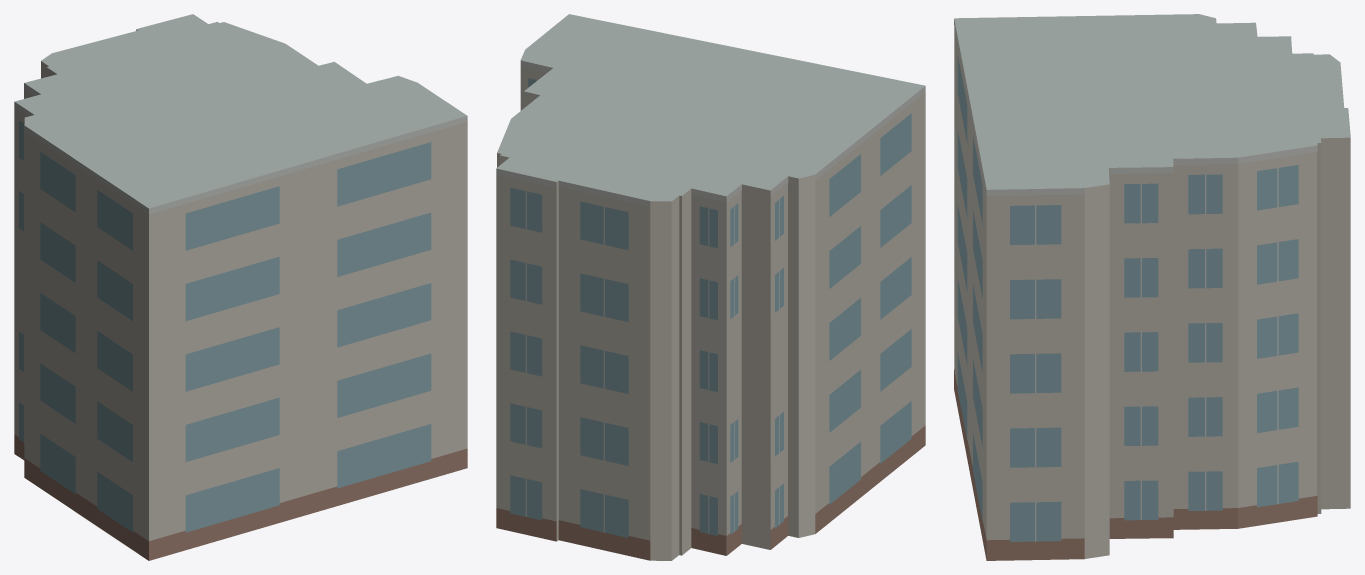
File: survey-upis-32742366.glb
3 views of the same model, side by side, from view 1: azimuth 30°, elevation 25°; view 2: azimuth 150°, elevation 25°; view 3: azimuth 270°, elevation 25° (orthographic). The views are drawn at different scales.
Visible parts, largest first — view 1: survey-upis-32742366.tmp; view 2: survey-upis-32742366.tmp; view 3: survey-upis-32742366.tmp.
Part boxes in pixels (x1,y1,x2,y2): survey-upis-32742366.tmp: (14,14,467,560); survey-upis-32742366.tmp: (496,14,925,560); survey-upis-32742366.tmp: (954,14,1350,560).
Bounding box in the file's own units: 14.78 × 14.53 × 14.09.
